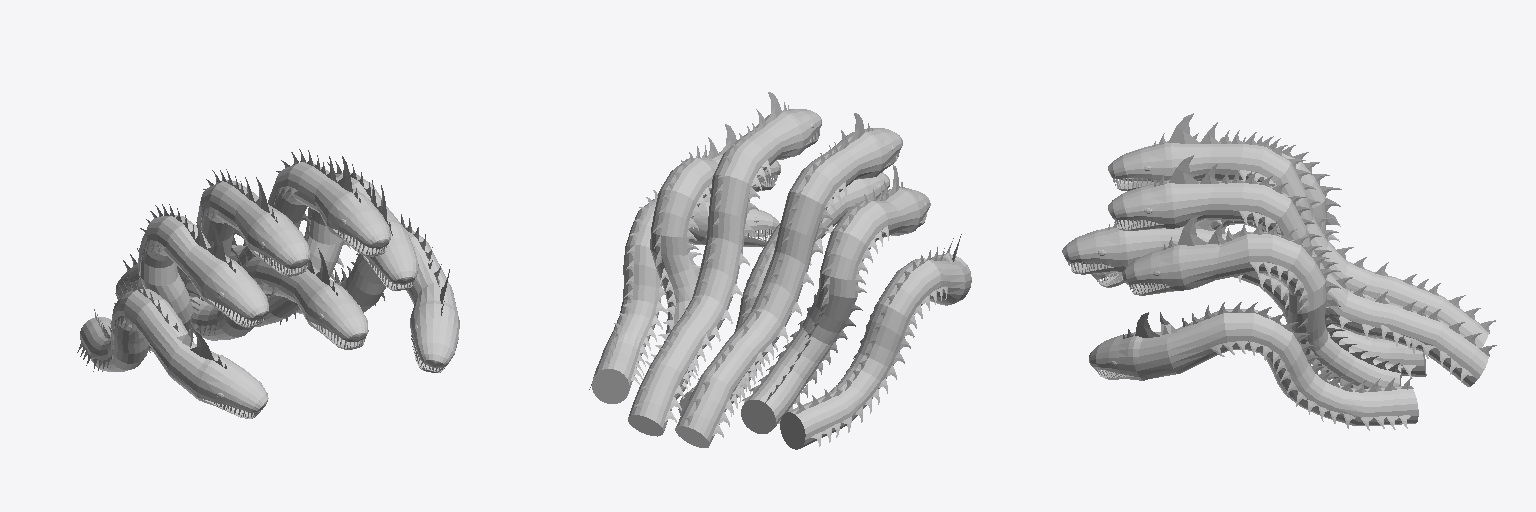
The model's file is DS_Hydra_Flotando01.obj.
3 views of the same model, side by side, from view 1: azimuth 30°, elevation 25°; view 2: azimuth 150°, elevation 25°; view 3: azimuth 270°, elevation 25° (orthographic).
Visible parts, largest first — view 1: default; view 2: default; view 3: default.
Part boxes in pixels (x1,y1,x2,y2): default: (77,149,459,418); default: (589,92,971,449); default: (1062,113,1496,430).
Size of the model in its own units: 18.39 by 14.27 by 23.06.